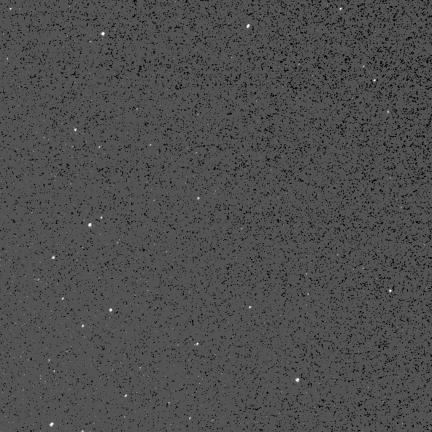blob: (296, 378, 300, 383), (52, 256, 56, 260), (109, 309, 113, 313), (89, 223, 92, 228), (389, 289, 392, 293), (100, 216, 103, 220), (82, 325, 85, 328), (125, 395, 128, 398), (50, 423, 53, 426), (101, 32, 104, 35), (247, 25, 250, 28), (75, 128, 77, 132), (198, 197, 200, 200)
